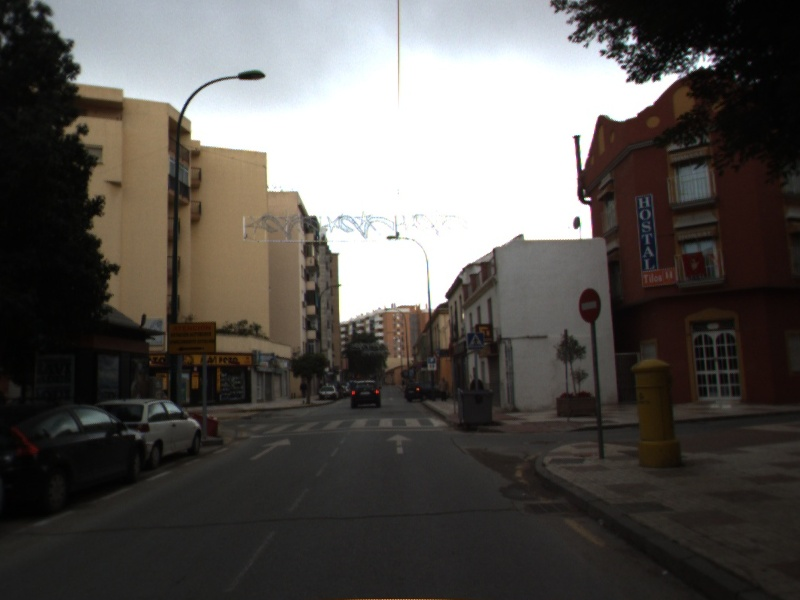STRAIGHT: (246, 436, 293, 462), (384, 431, 414, 456)
